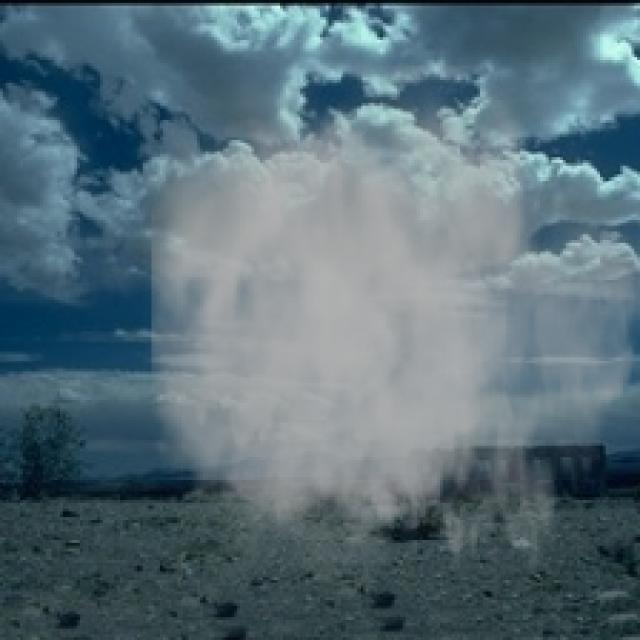smoke: (120, 65, 637, 626)
